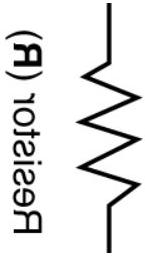resistor: (72, 49, 140, 212)
